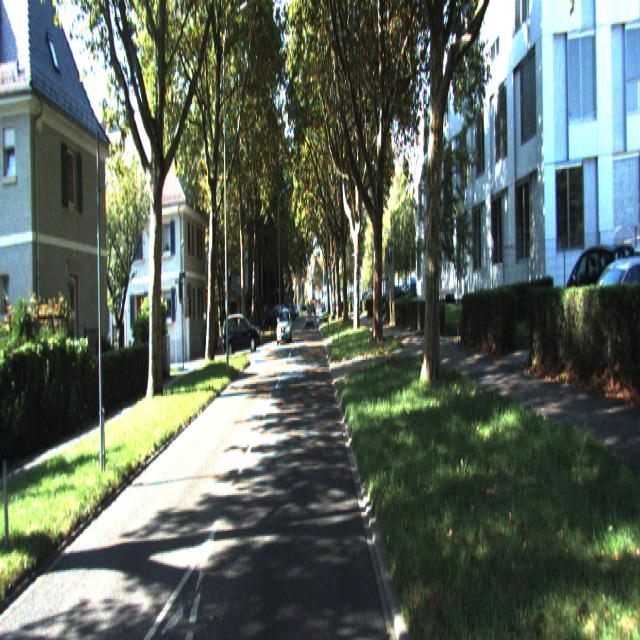Car: (222, 312, 261, 355), (276, 309, 292, 344)
DontCare: (558, 213, 639, 390), (337, 263, 416, 308), (302, 297, 318, 332)
